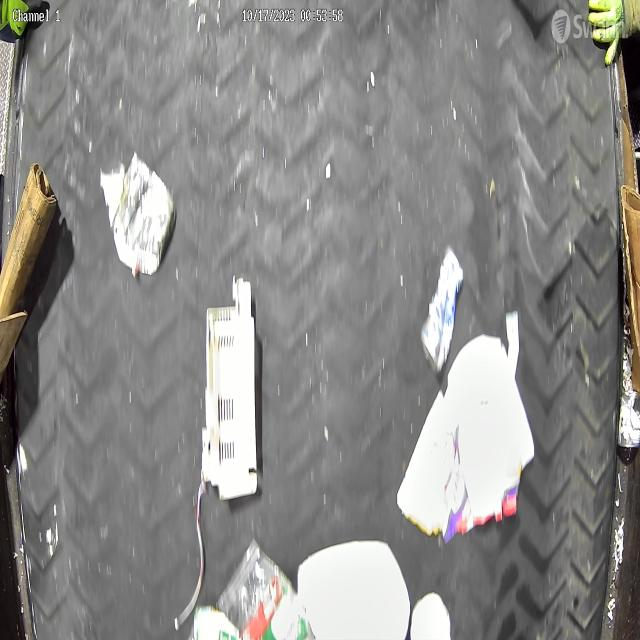can: (420, 246, 464, 374), (617, 389, 640, 447)
milk_jug: (296, 540, 412, 640)
